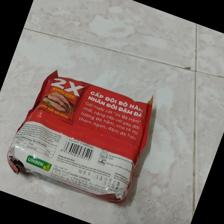3mien: (6, 68, 154, 205)
